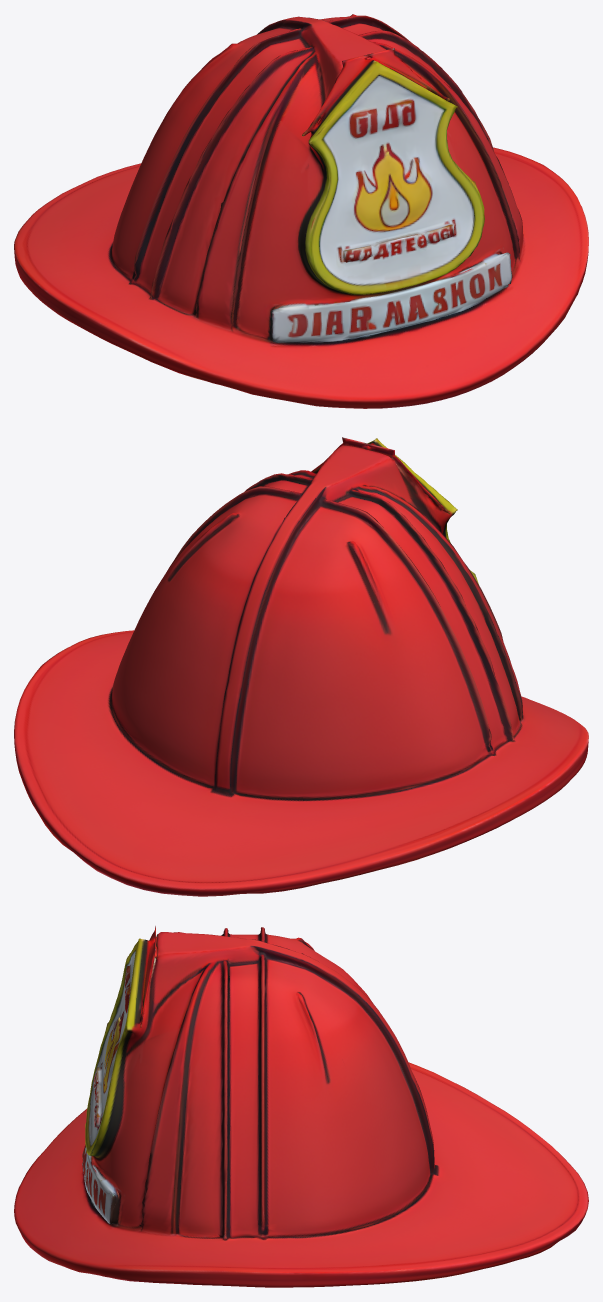
The model's file is FireHat.fbx.
3 views of the same model, one above another, from view 1: azimuth 30°, elevation 25°; view 2: azimuth 150°, elevation 25°; view 3: azimuth 270°, elevation 25° (orthographic). The views are drawn at different scales.
Visible parts, largest first — view 1: FireHat; view 2: FireHat; view 3: FireHat.
Part boxes in pixels (x1,y1,x2,y2): FireHat: [14, 14, 588, 408]; FireHat: [14, 437, 588, 896]; FireHat: [14, 926, 588, 1287].
Size of the model in its own units: 74.9 by 41.75 by 77.34.
